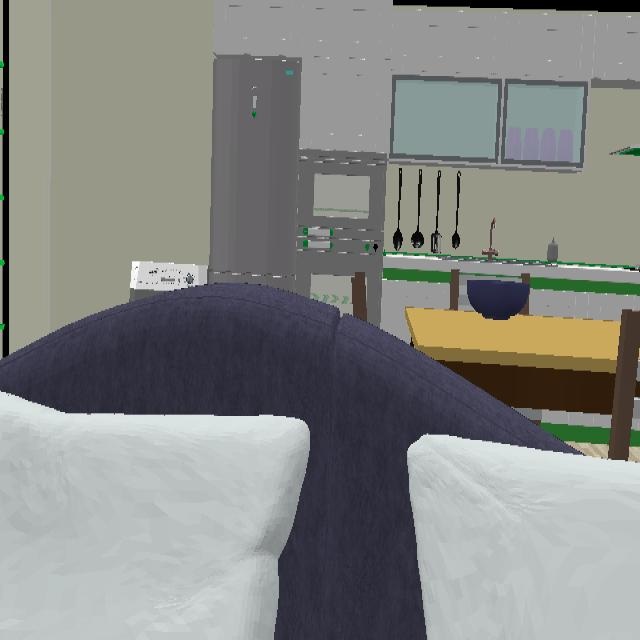cabinet: (214, 0, 640, 171)
fridge: (209, 55, 301, 291)
microwave: (298, 151, 384, 241)
oven: (298, 238, 381, 326)
pillow: (0, 392, 310, 638), (408, 435, 640, 638)
sink: (442, 218, 540, 263)
sofa: (0, 283, 576, 638)
table: (405, 307, 619, 415)
